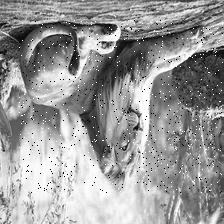Lion: (20, 20, 224, 193)
